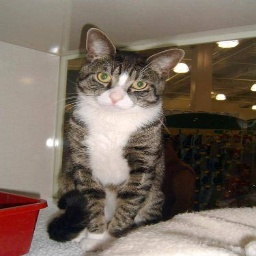cat: (49, 20, 182, 247)
